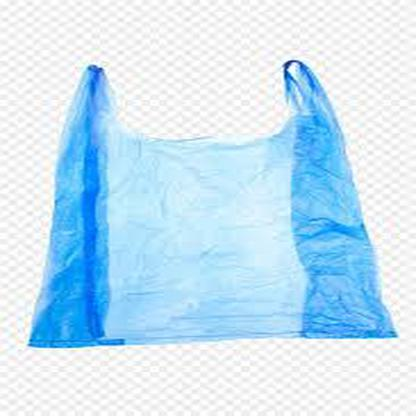plastic bag: (28, 60, 399, 346)
